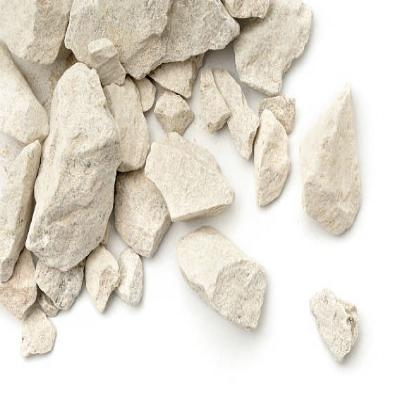Sedimentary_Limestone: (24, 65, 111, 273), (69, 0, 245, 86), (294, 70, 376, 239), (178, 226, 265, 338), (140, 120, 223, 232), (236, 3, 315, 92), (292, 293, 363, 367), (240, 107, 286, 202), (14, 302, 52, 352), (86, 250, 115, 300)
